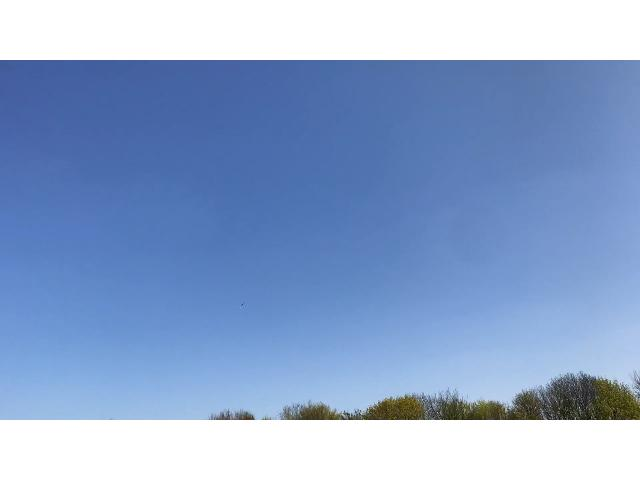Anti-Drone: (238, 294, 254, 314)
